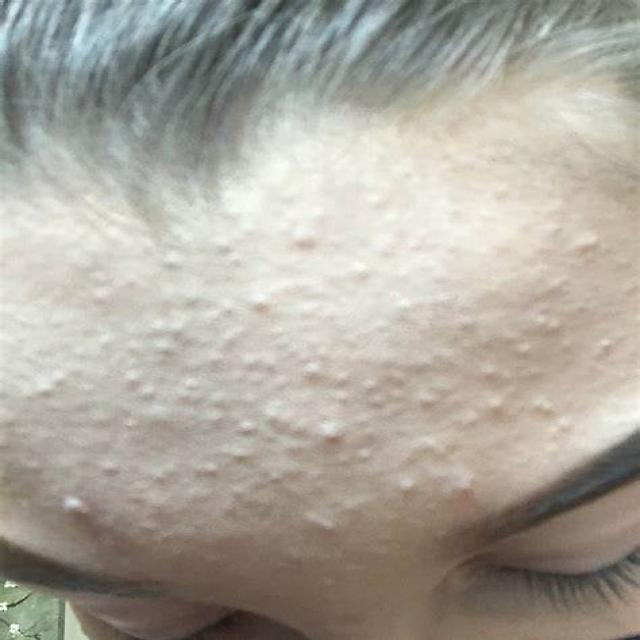fungal: (4, 225, 623, 534)
